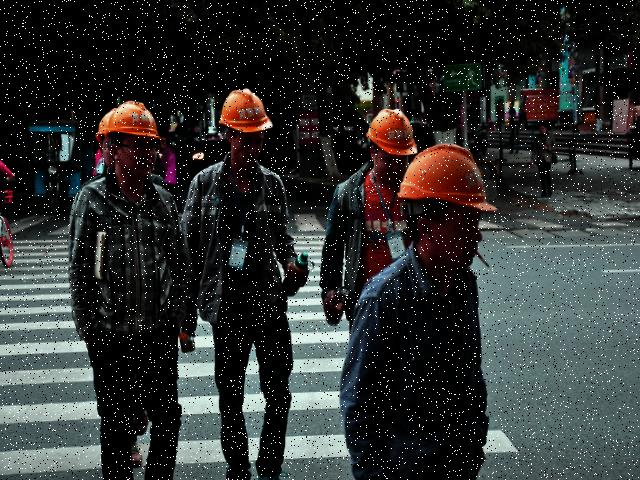Helmet: (394, 137, 502, 216), (364, 104, 422, 162), (215, 84, 278, 136), (106, 96, 167, 144)
